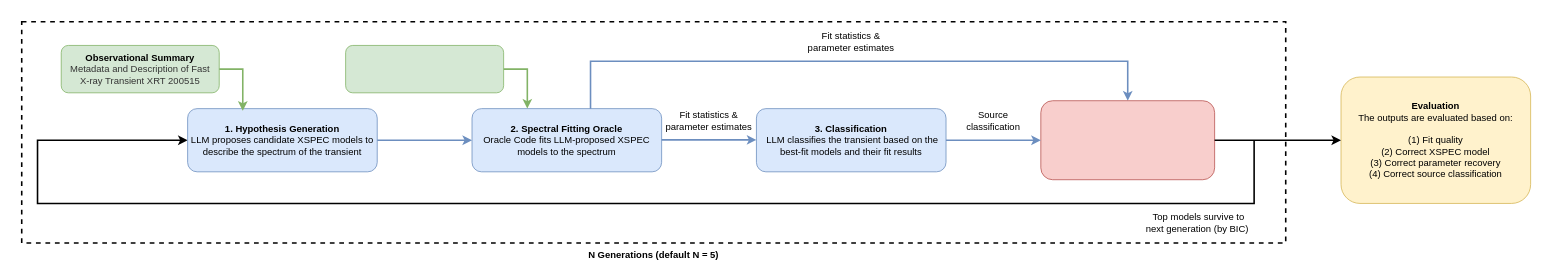
Some shapes in this 1552 by 280 pixel diagram are drawn without their labels. Each missing label, with the centre of its shape:
Data Spectral Data of Fast X-ray Transient XRT 200515: (x=424, y=69)
Outputs (1) Fit statistics & parameter estimates (2) Source classification: (x=1127, y=140)
